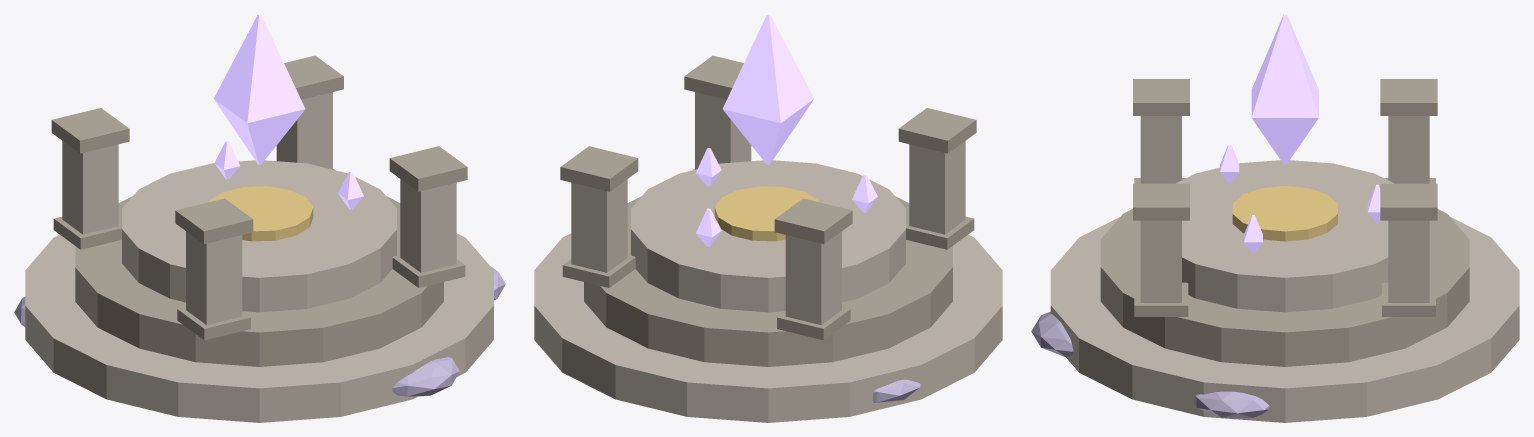
The model's file is altar.glb.
3 views of the same model, side by side, from view 1: azimuth 30°, elevation 25°; view 2: azimuth 150°, elevation 25°; view 3: azimuth 270°, elevation 25° (orthographic).
Parts seen in each view (by area): view 1: step_1, step_3, step_2, crystal_top, pillar_3, pillar_0, pillar_2, dish, pillar_1, pillar_cap_2, pillar_cap_0, pillar_cap_3 (+6 smaller); view 2: step_1, step_3, step_2, crystal_top, pillar_2, pillar_3, pillar_1, dish, pillar_0, pillar_cap_1, pillar_cap_2, pillar_cap_3 (+9 smaller); view 3: step_1, step_3, step_2, dish, crystal_top, pillar_1, pillar_0, pillar_2, pillar_3, pillar_cap_1, pillar_cap_0, pillar_cap_3 (+6 smaller).
Part boxes in pixels (bbox=[...]): step_1: bbox=[25, 233, 493, 422]; step_3: bbox=[122, 160, 396, 312]; step_2: bbox=[75, 196, 443, 366]; crystal_top: bbox=[213, 14, 305, 123]; pillar_3: bbox=[62, 141, 118, 234]; pillar_0: bbox=[400, 179, 456, 272]; pillar_2: bbox=[186, 231, 242, 324]; dish: bbox=[209, 186, 313, 241]; pillar_1: bbox=[276, 92, 332, 169]; pillar_cap_2: bbox=[175, 198, 253, 243]; pillar_cap_0: bbox=[389, 146, 467, 191]; pillar_cap_3: bbox=[51, 108, 129, 153]; step_1: bbox=[534, 233, 1002, 422]; step_3: bbox=[631, 160, 905, 312]; step_2: bbox=[584, 196, 952, 366]; crystal_top: bbox=[722, 14, 814, 123]; pillar_2: bbox=[909, 141, 965, 234]; pillar_3: bbox=[785, 231, 841, 324]; pillar_1: bbox=[571, 179, 627, 272]; dish: bbox=[714, 186, 818, 241]; pillar_0: bbox=[695, 92, 751, 169]; pillar_cap_1: bbox=[560, 146, 638, 191]; pillar_cap_2: bbox=[898, 108, 976, 153]; pillar_cap_3: bbox=[774, 198, 852, 243]; step_1: bbox=[1050, 217, 1519, 422]; step_3: bbox=[1176, 160, 1394, 312]; step_2: bbox=[1100, 209, 1469, 366]; dish: bbox=[1232, 186, 1337, 241]; crystal_top: bbox=[1251, 14, 1318, 117]; pillar_1: bbox=[1388, 220, 1429, 302]; pillar_0: bbox=[1140, 220, 1181, 302]; pillar_2: bbox=[1140, 116, 1181, 183]; pillar_3: bbox=[1388, 116, 1429, 183]; pillar_cap_1: bbox=[1380, 183, 1437, 220]; pillar_cap_0: bbox=[1133, 183, 1189, 220]; pillar_cap_3: bbox=[1380, 79, 1437, 115].
Size of the model in its own units: 3.12 by 2.2 by 3.13.
